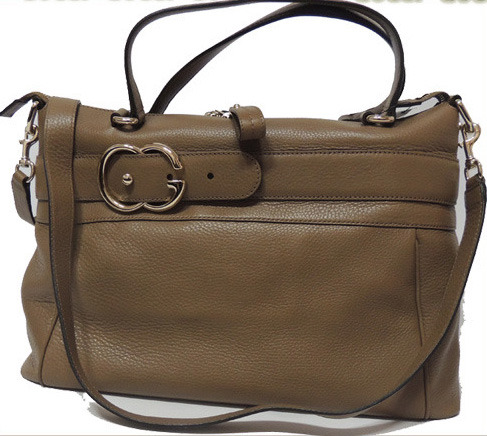Gucci: (0, 79, 486, 430), (92, 138, 201, 225)
